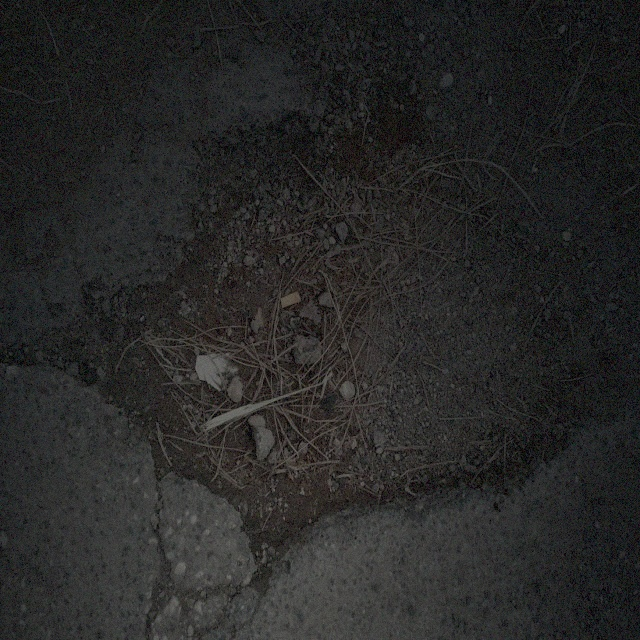pothole: (89, 96, 542, 552)
